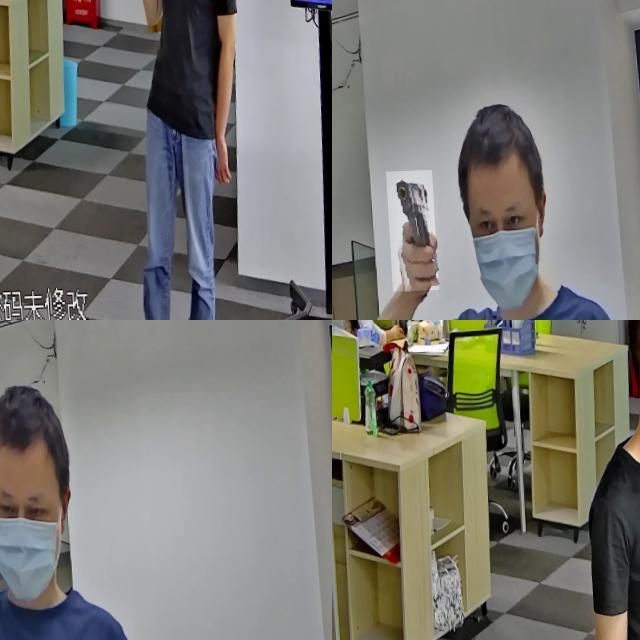gun-knife-thesis - v11 Yolov5 augmented: (0, 348, 32, 546), (381, 173, 432, 294), (120, 0, 162, 42)
